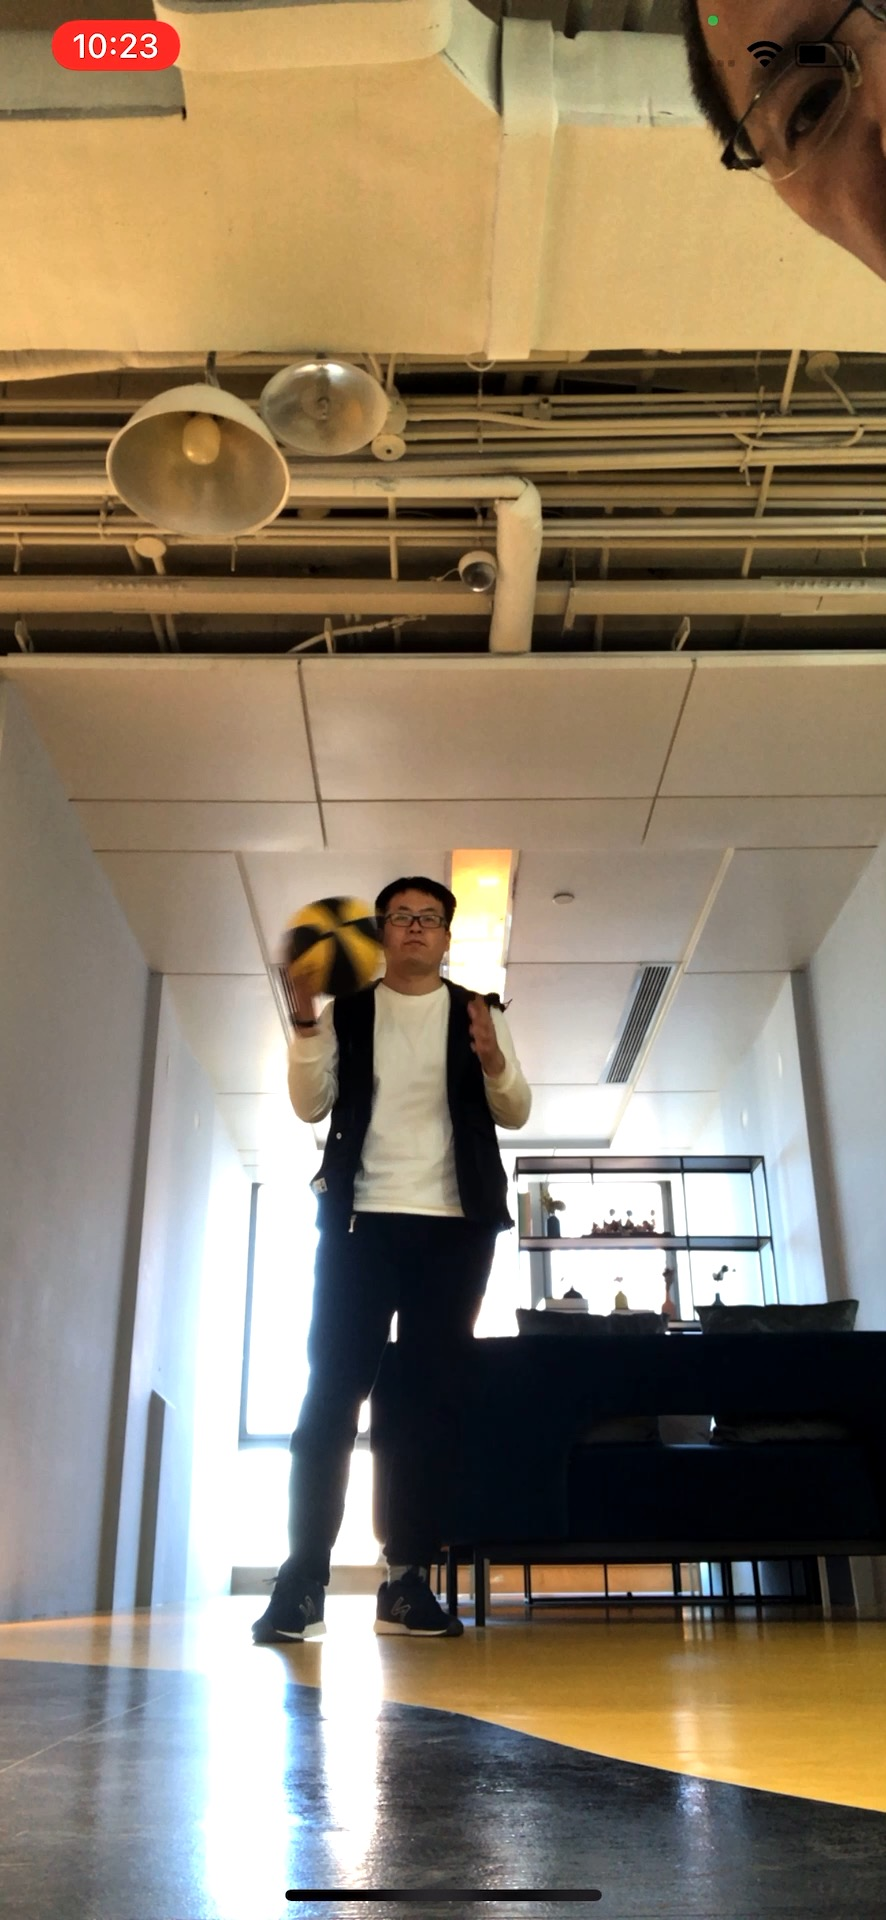ball: (280, 896, 388, 994)
